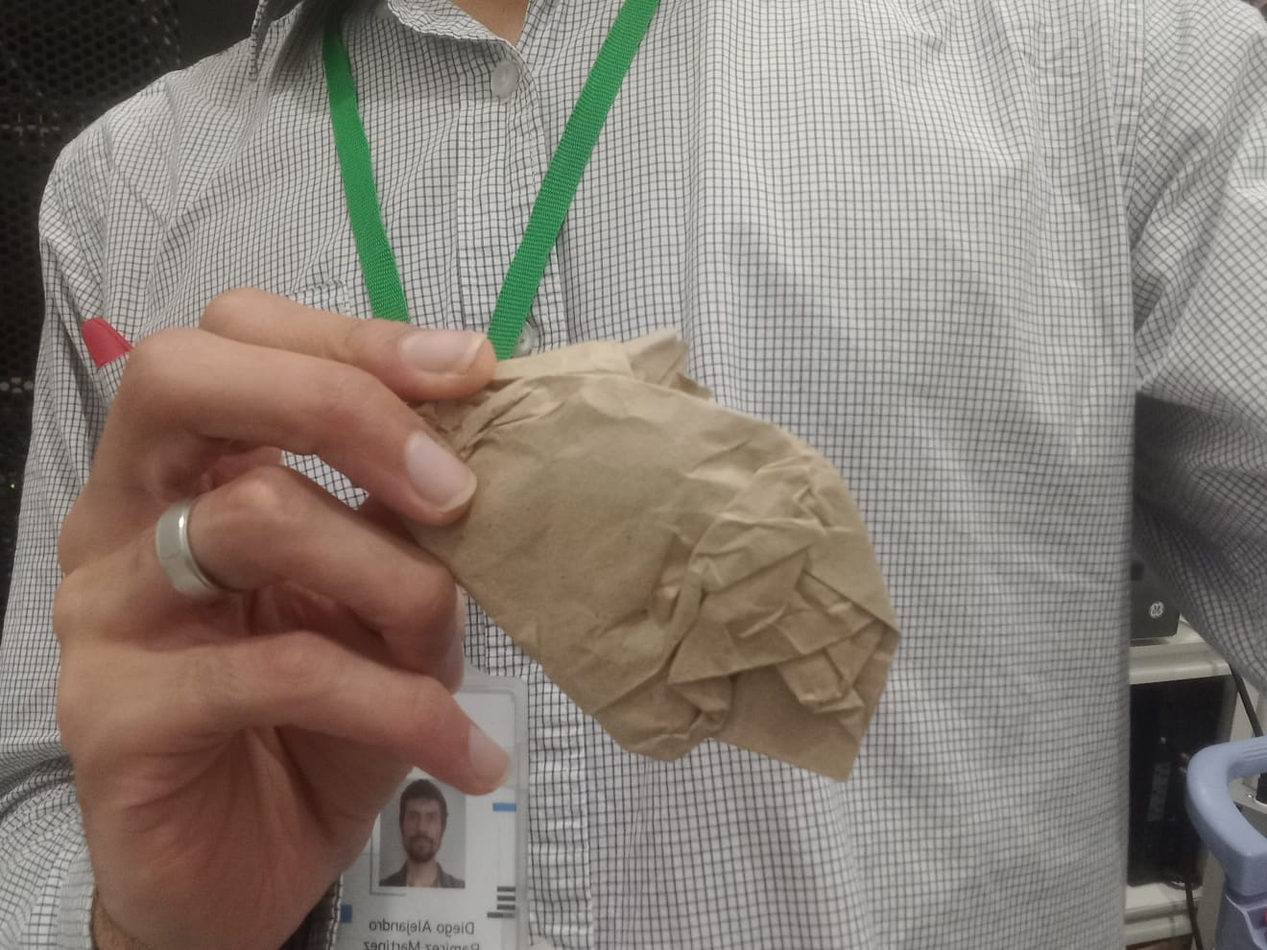Ordinario: (371, 325, 904, 779)
